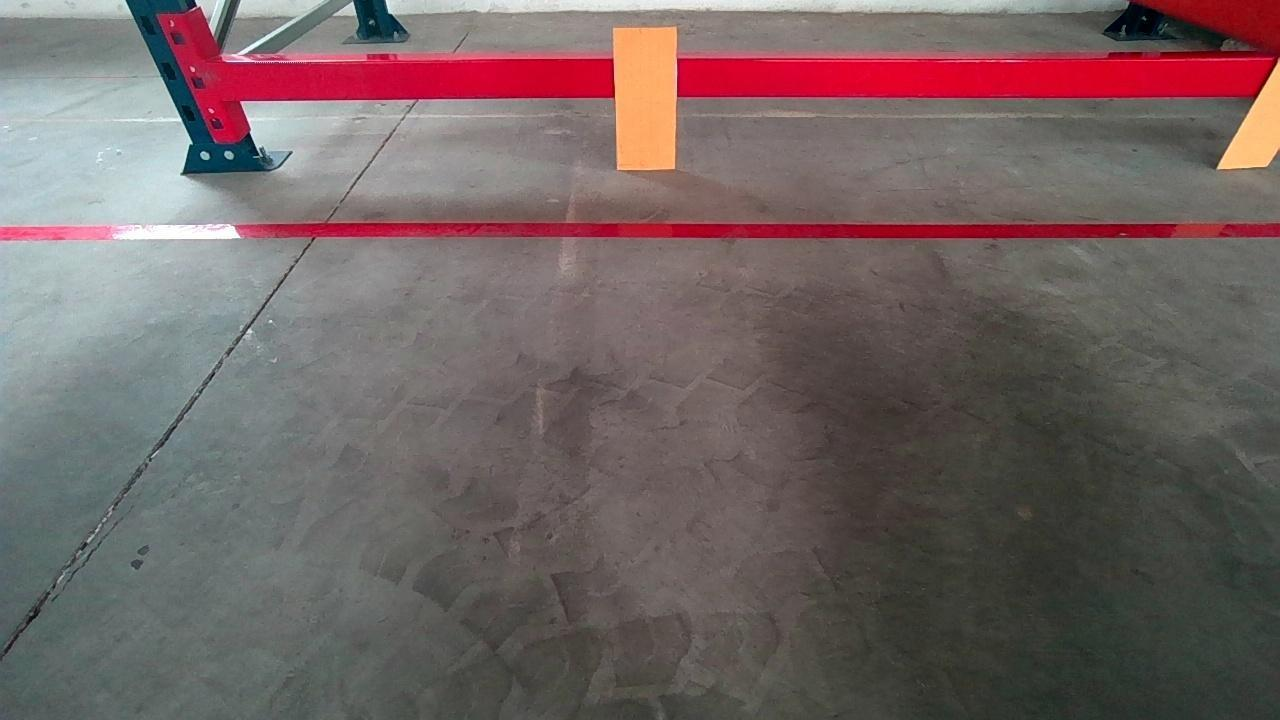h_rack: (221, 58, 1280, 99)
orange_strip: (614, 25, 678, 169), (1220, 59, 1280, 167)
red_line: (0, 218, 1279, 240)
